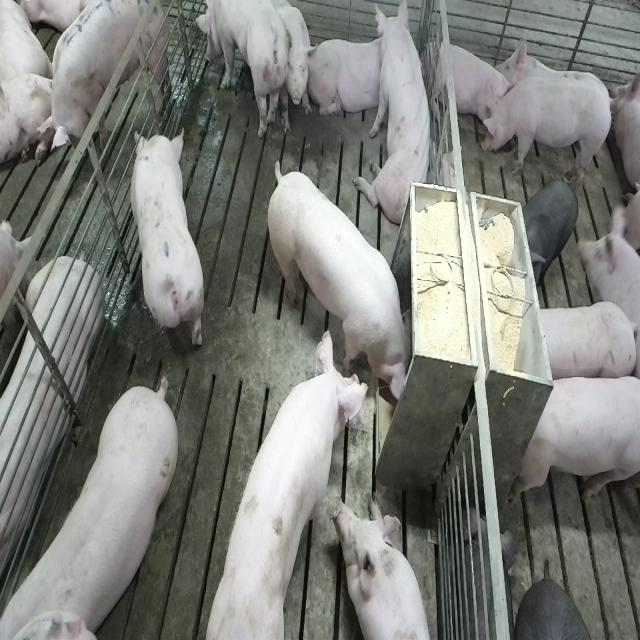Feeding: (198, 320, 370, 635), (271, 162, 421, 412)
Sitting: (358, 5, 436, 232), (195, 1, 315, 144)
Standing: (5, 372, 183, 636), (39, 0, 174, 178), (511, 372, 637, 512), (126, 132, 205, 355), (480, 79, 618, 186), (528, 300, 636, 384), (522, 176, 580, 283)
Sternal_lying: (0, 242, 101, 586), (337, 496, 438, 640), (429, 36, 508, 132), (310, 34, 390, 120)
